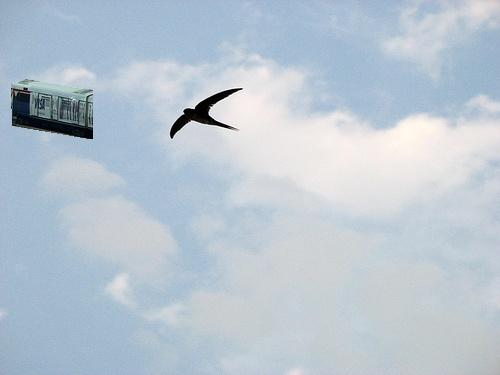tampered: (12, 80, 93, 139)
